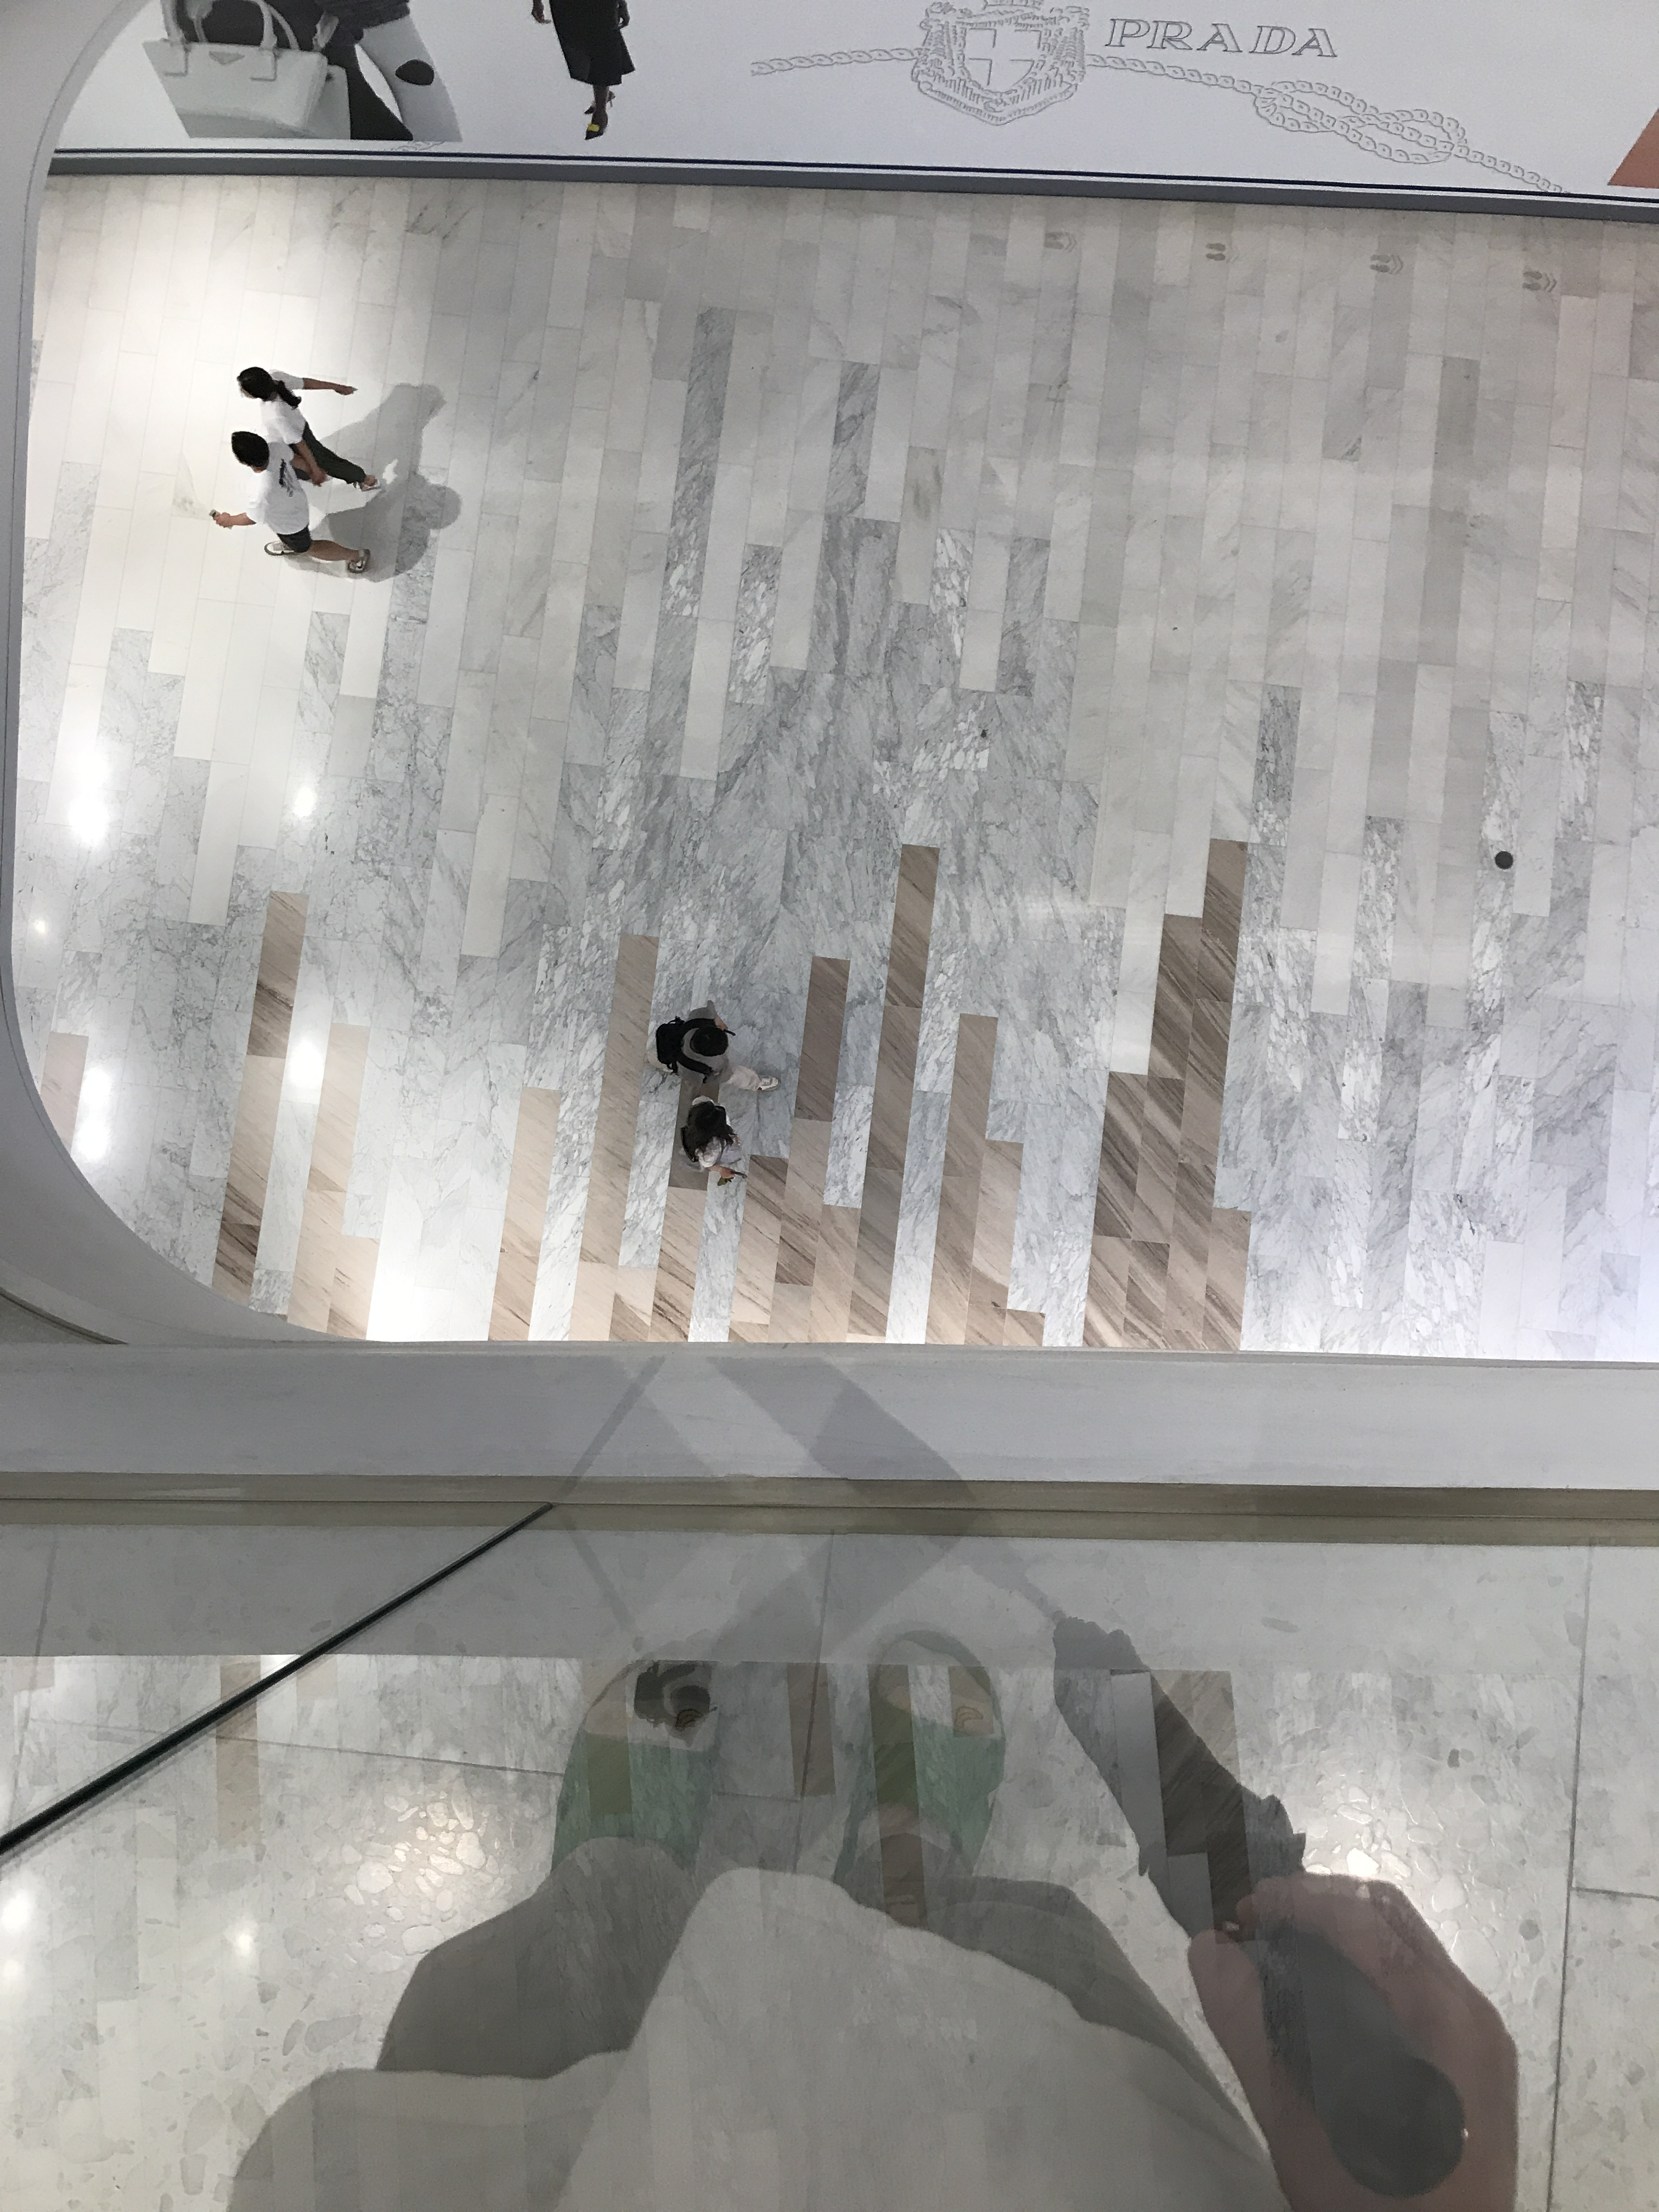person: (206, 430, 371, 575), (235, 365, 382, 493), (653, 998, 783, 1094), (675, 1094, 748, 1187)
